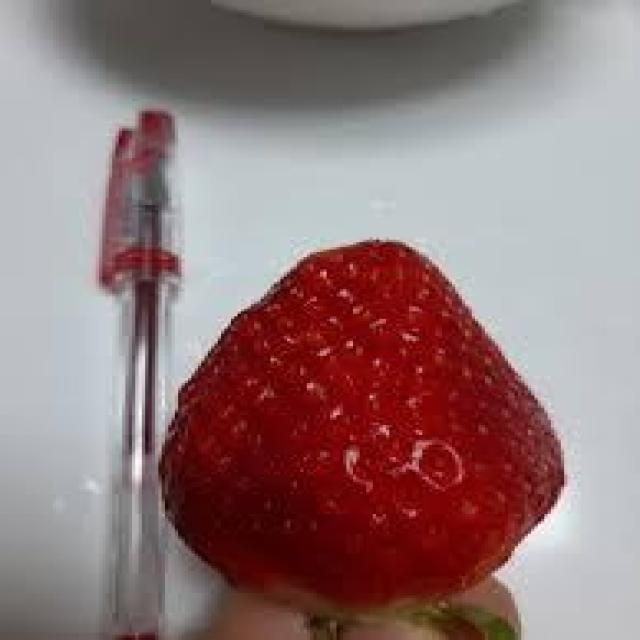mature: (157, 238, 564, 608)
